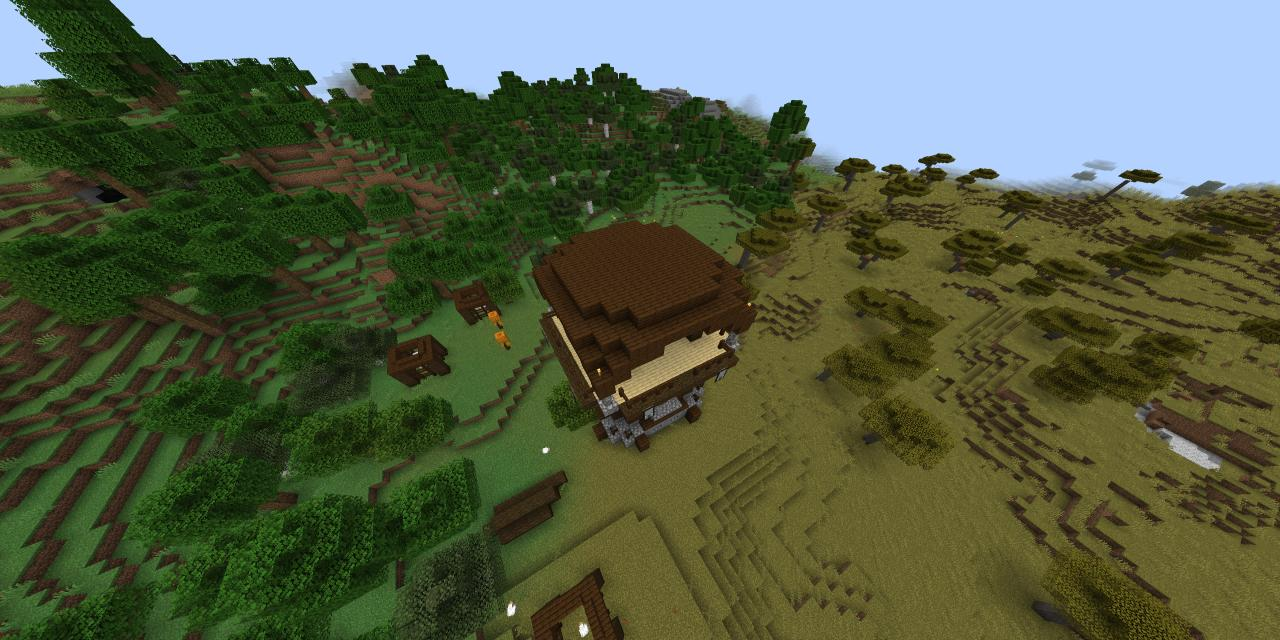pillager outpost: (526, 203, 768, 467)
